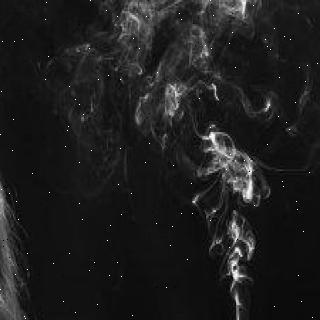smoke: (115, 1, 310, 213)
